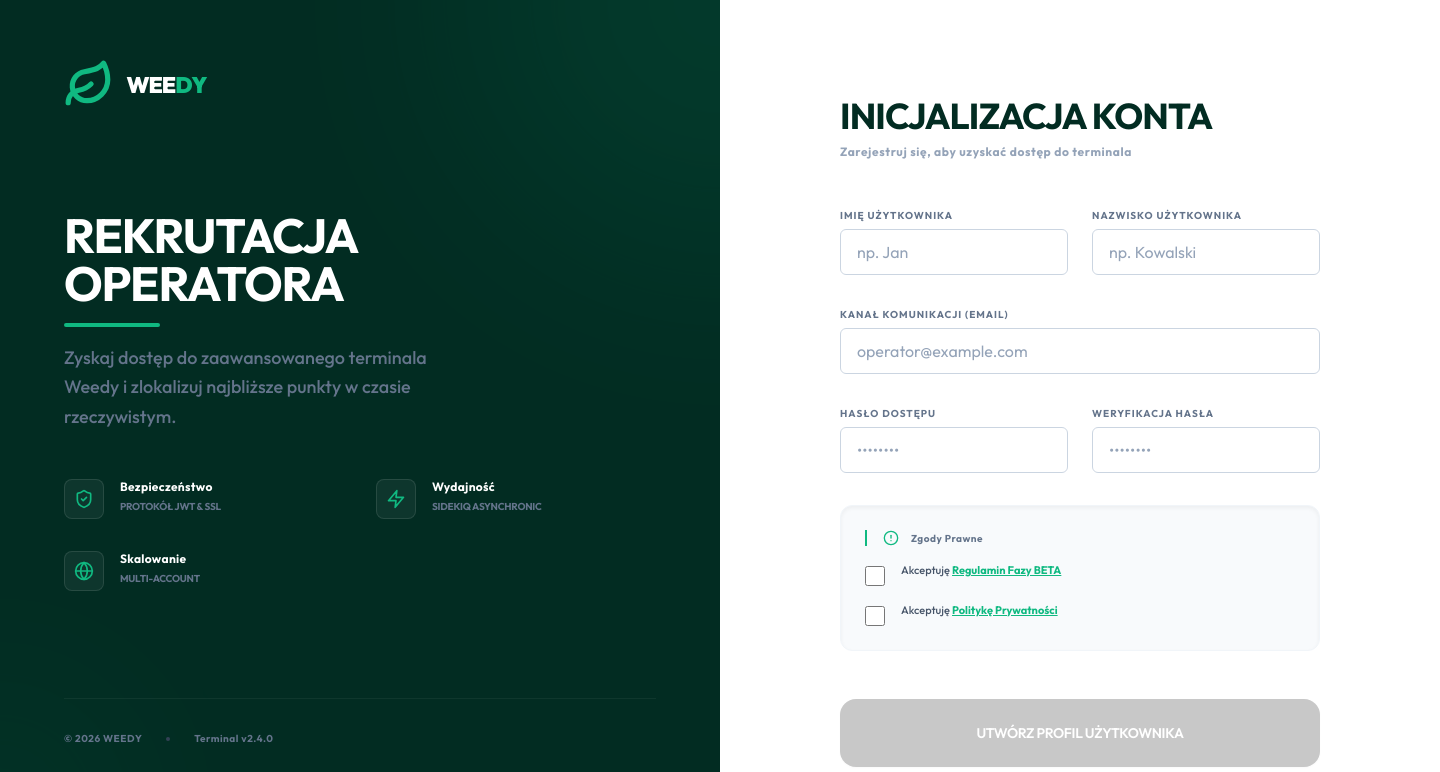
it: Register Component › shows error if passwords do not match
Type "test@example.com" into the field labelled "Kanał Komunikacji (Email)" at (1080, 351), box [840, 328, 1320, 374]
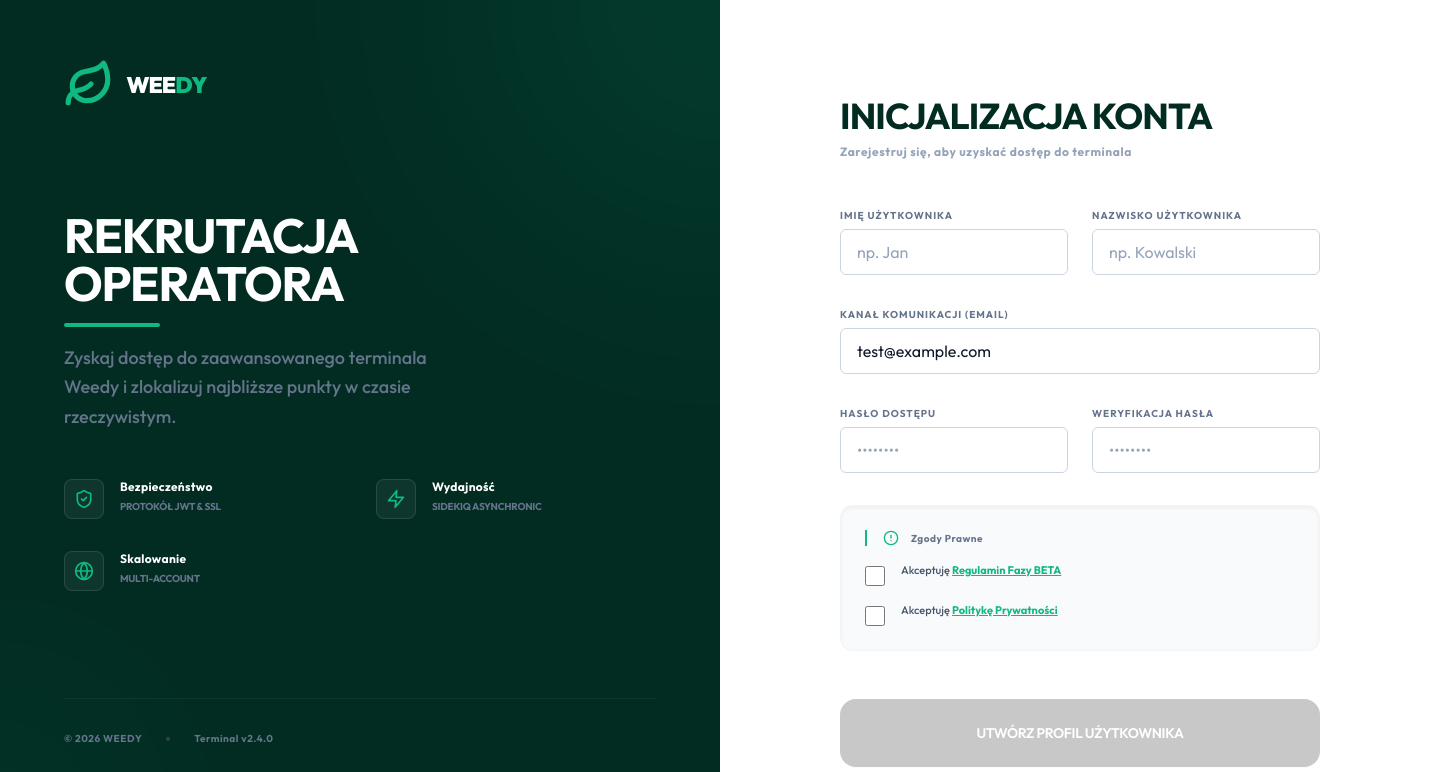
Type "password123" into the password field labelled "Hasło Dostępu" at (954, 450), box [840, 427, 1068, 473]
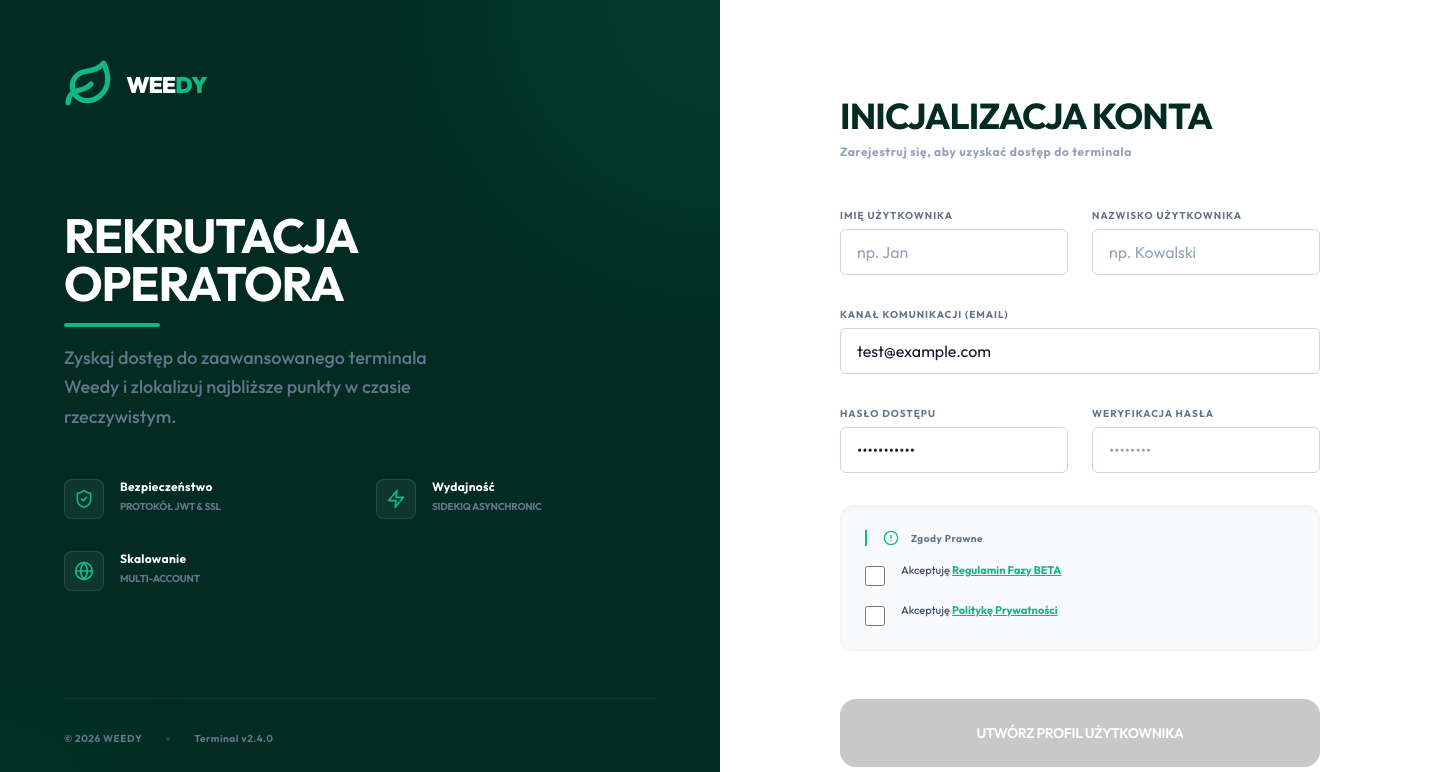
Type "mismatch" into the password field labelled "Weryfikacja Hasła" at (1206, 450), box [1092, 427, 1320, 473]
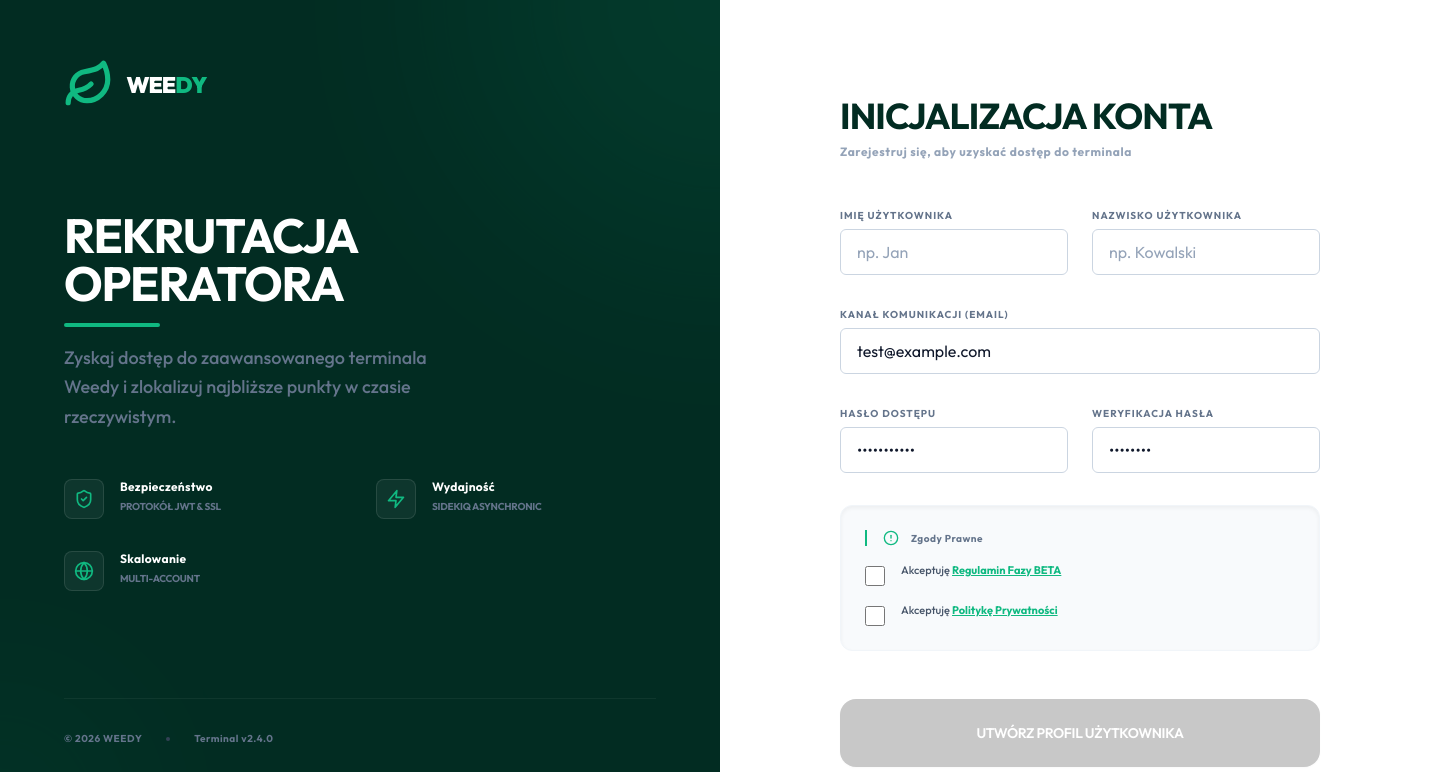
Accept legal
Click the checkbox labelled "Akceptuję Regulamin Fazy BETA" at (875, 576), box [865, 566, 885, 586]
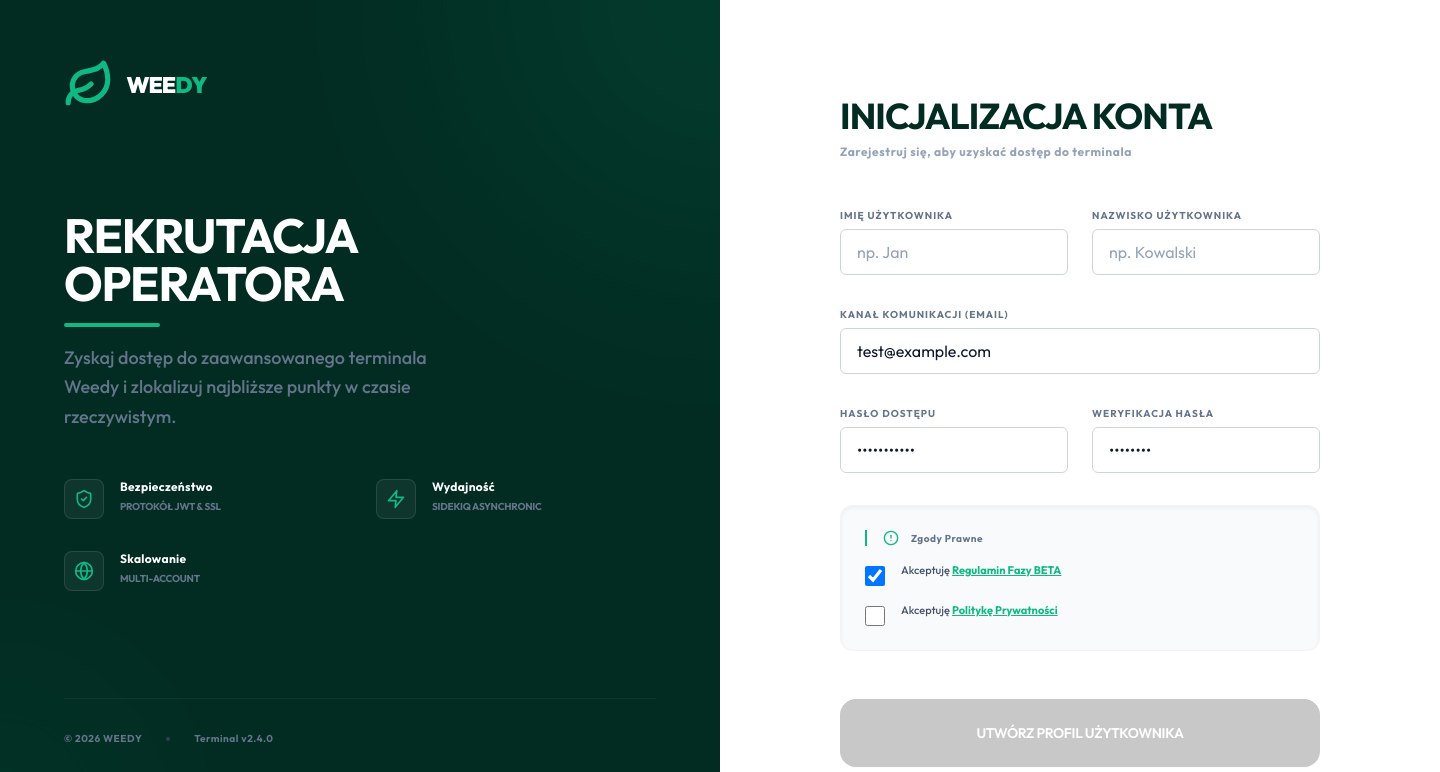
Click the checkbox labelled "Akceptuję Politykę Prywatności" at (875, 616), box [865, 606, 885, 626]
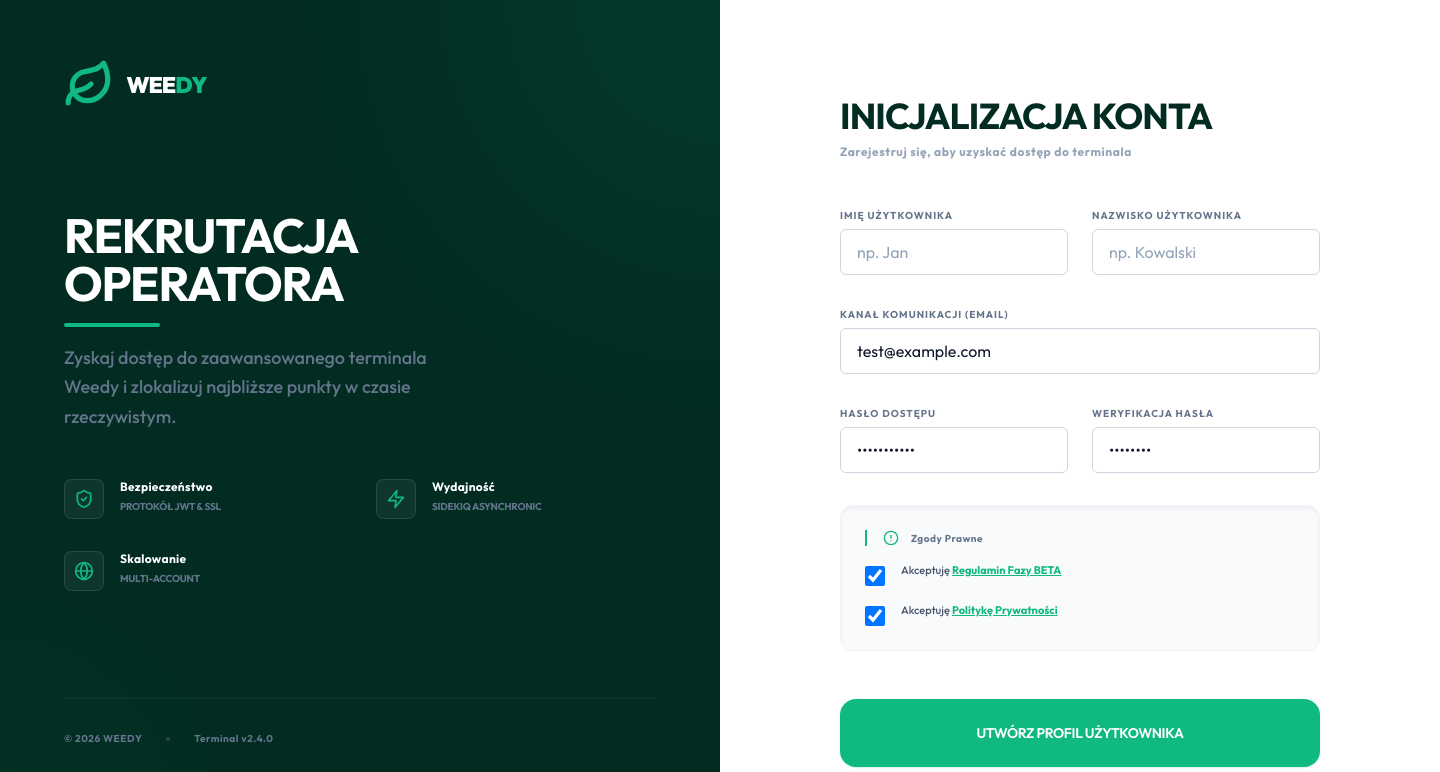
Click the button "UTWÓRZ PROFIL UŻYTKOWNIKA" at (1080, 733), box [840, 699, 1320, 767]
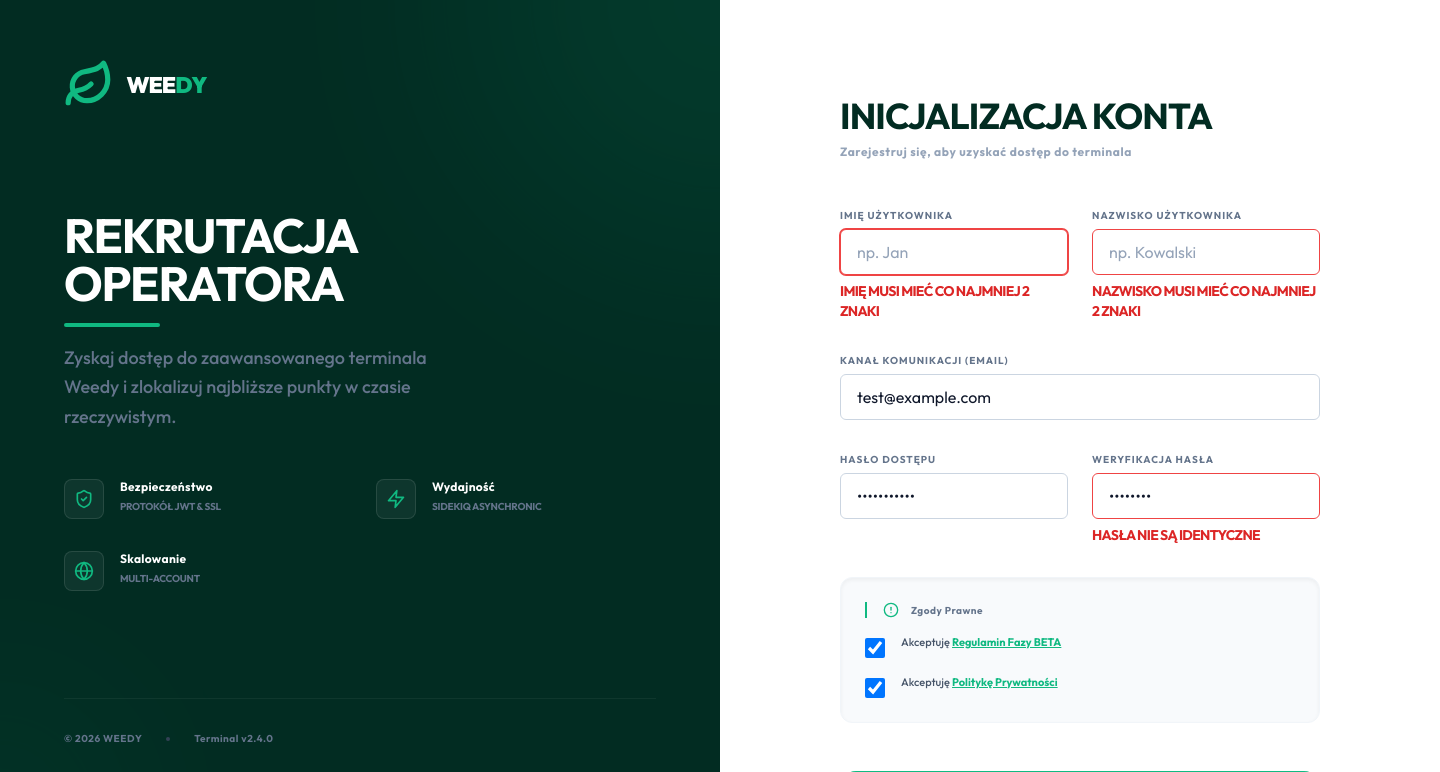
Expected: the text "Hasła nie są identyczne" is shown, [1092, 526, 1260, 544]
